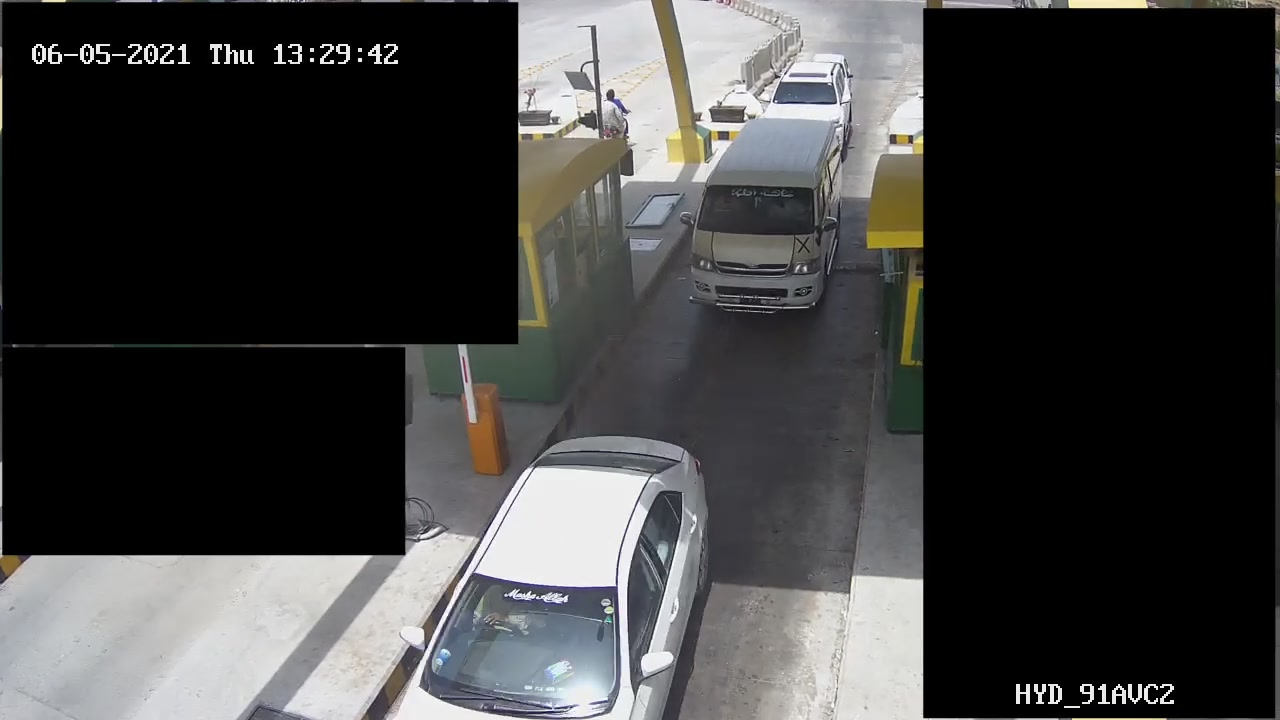F2: (678, 119, 860, 319)
